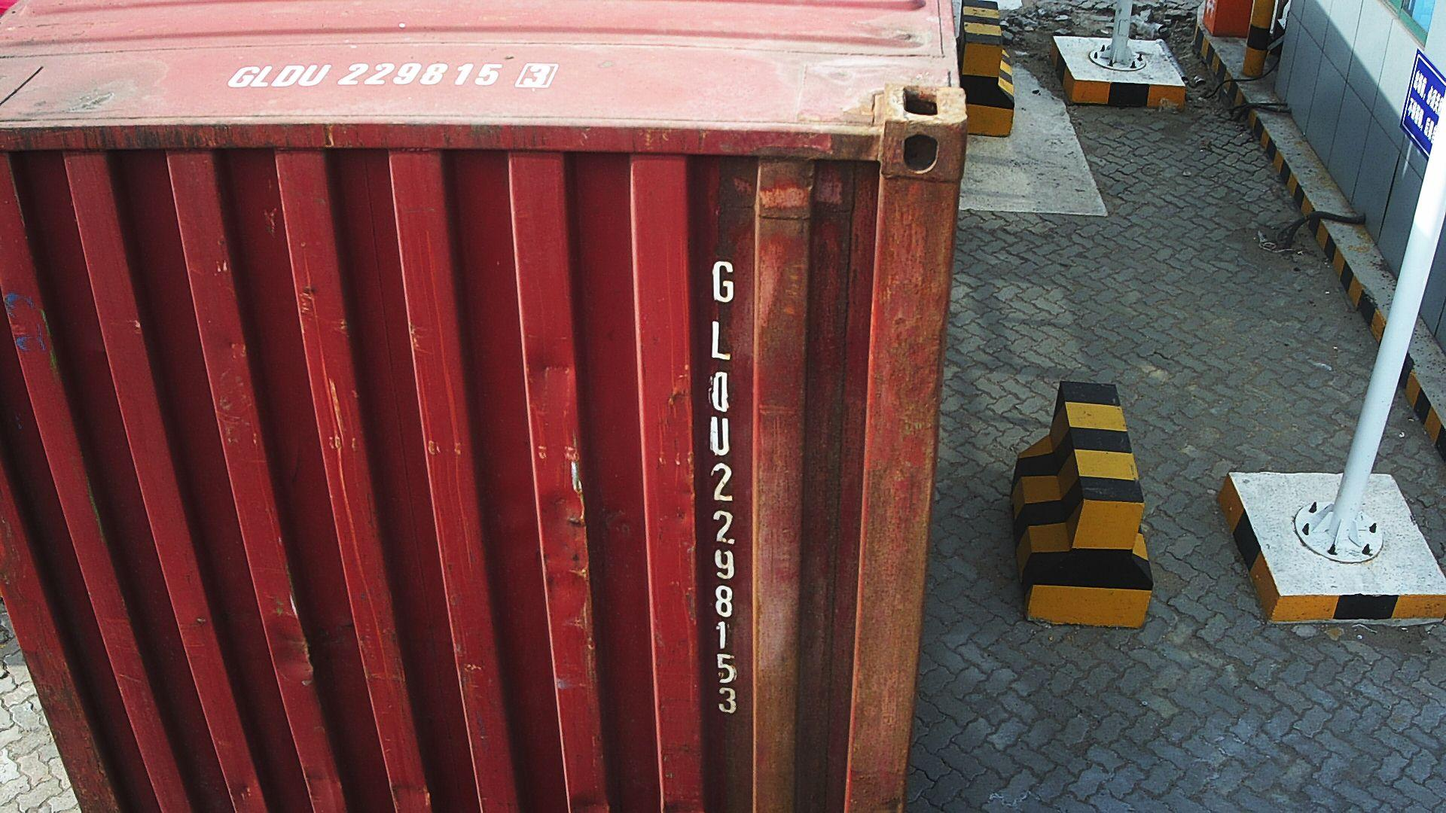container-numbers: (698, 251, 746, 720), (219, 59, 563, 93)
